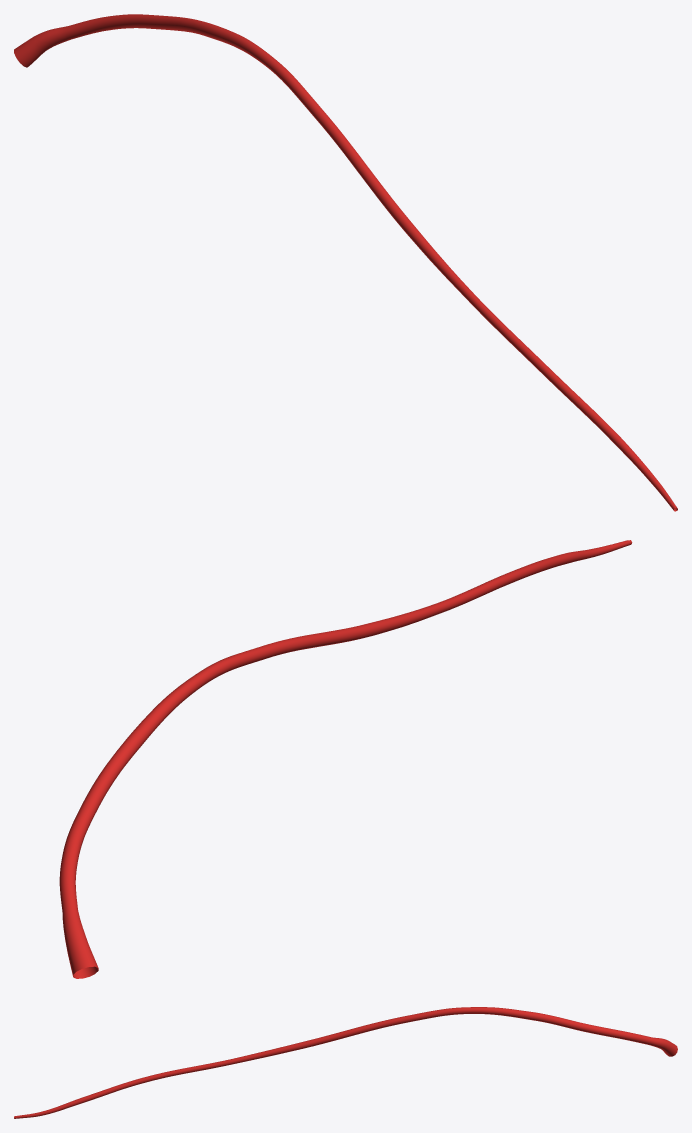
Rendered from circulatorio-x-r.glb.
3 renders of one model, top to bottom at view 1: azimuth 30°, elevation 25°; view 2: azimuth 150°, elevation 25°; view 3: azimuth 270°, elevation 25°, orthographic. The views are drawn at different scales.
Parts seen in each view (by area): view 1: ?x.r; view 2: ?x.r; view 3: ?x.r.
Part boxes in pixels (box(x1,y1,x2,y2)): ?x.r: box(14, 14, 677, 511); ?x.r: box(59, 540, 632, 978); ?x.r: box(14, 1007, 677, 1118).
Bounding box in the file's own units: 0.00553 × 0.00852 × 0.0487.
